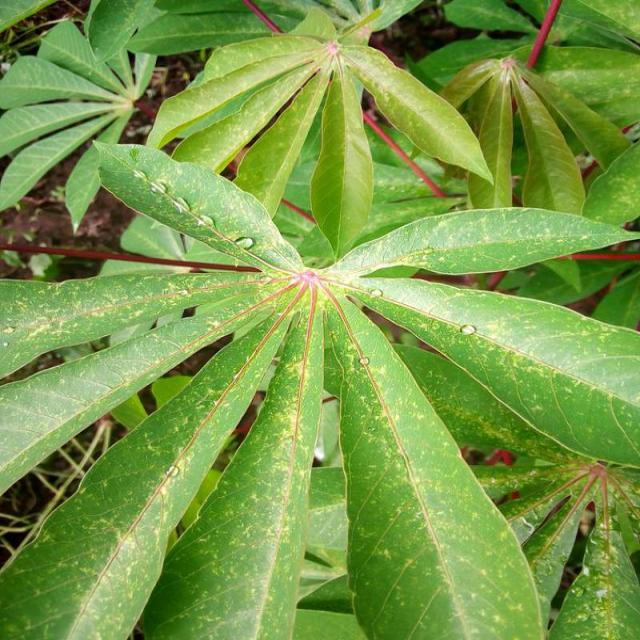cassava leaf: (2, 3, 639, 638), (145, 2, 495, 264)
